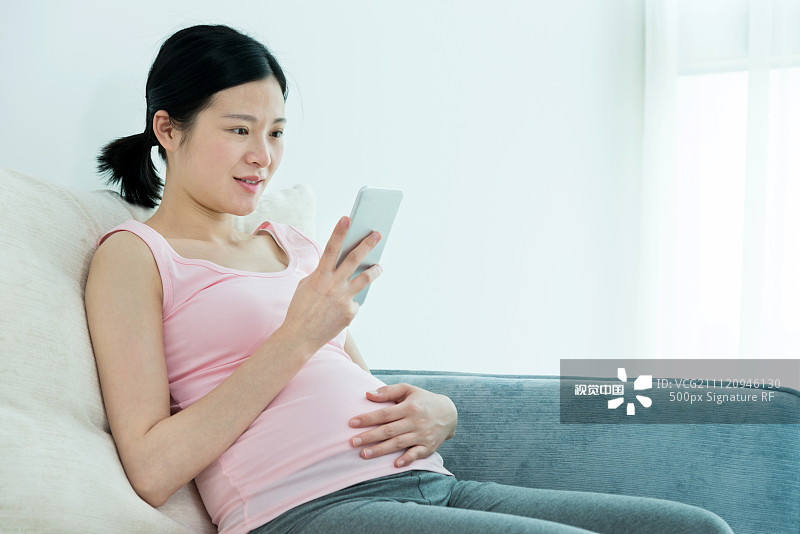no-phone: (334, 372, 489, 476)
reading: (275, 190, 409, 359)
